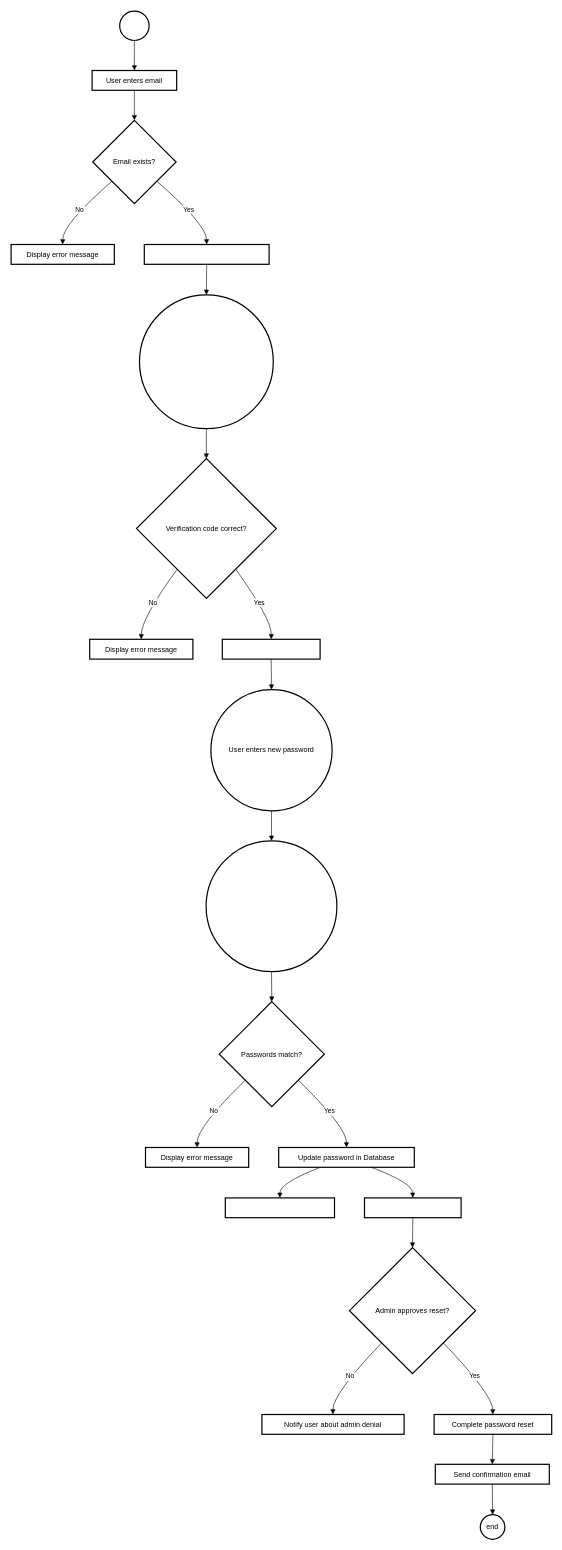
Some shapes in this 562 by 1550 pixel diagram are drawn without their labels. The shapes that lost their labels are listed below. From the top down, each one's centre as x and y in pixels, then its label:
the point at 134,25: start
the point at 206,254: Generate verification code
the point at 206,361: User enters verification code
the point at 270,648: Reset password form
the point at 271,906: User confirms new password
the point at 279,1207: Send notification email
the point at 412,1207: Notify system admin
